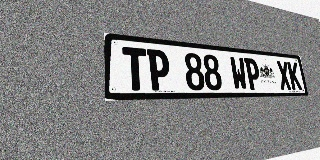8: (184, 52, 205, 90), (202, 54, 223, 90)
K: (287, 62, 302, 90)
P: (147, 49, 171, 90), (244, 58, 262, 90)
T: (122, 47, 148, 91)
W: (229, 56, 248, 90)
X: (276, 61, 292, 90)
